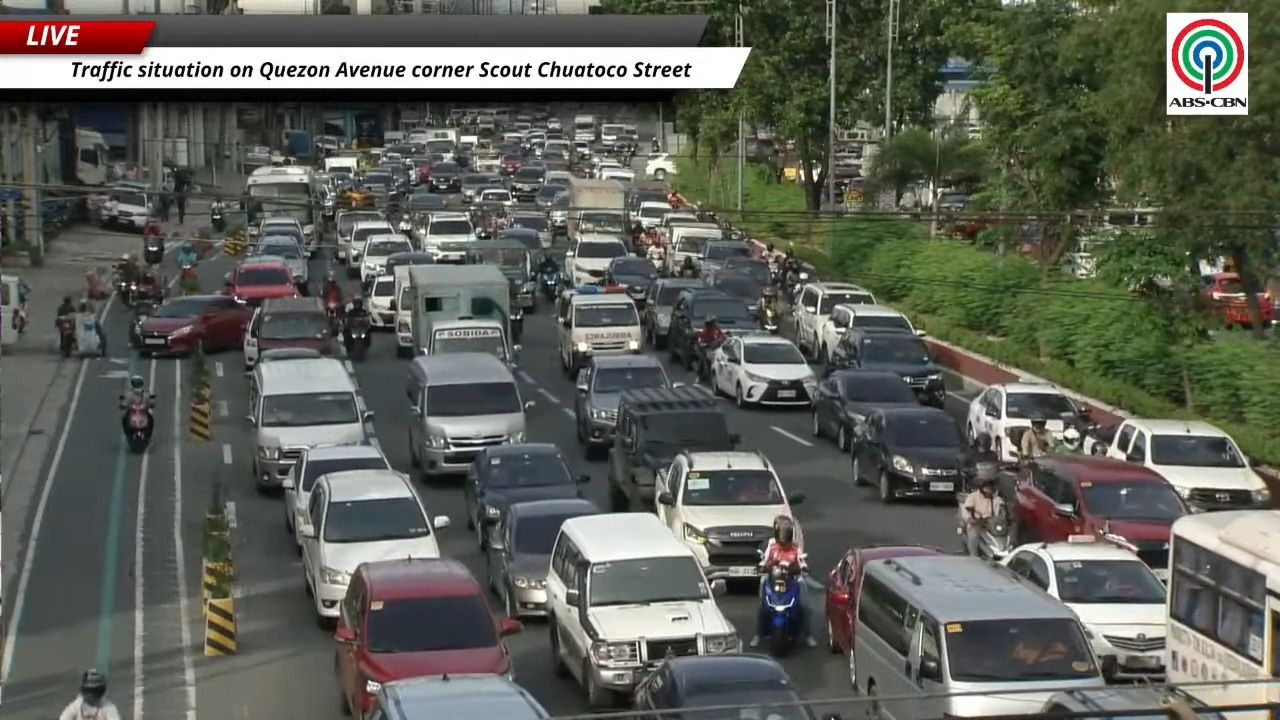bus: (1166, 510, 1279, 706), (246, 166, 316, 247)
car: (335, 556, 520, 716), (1002, 535, 1166, 680), (295, 470, 449, 624), (1012, 455, 1188, 579), (656, 450, 804, 578), (608, 386, 740, 511), (824, 545, 943, 682), (486, 498, 600, 618), (463, 443, 589, 549), (631, 654, 817, 719), (282, 443, 391, 548), (851, 406, 969, 502), (574, 354, 670, 459), (829, 327, 946, 407), (966, 382, 1081, 461), (812, 369, 917, 451), (363, 673, 550, 719), (667, 281, 759, 368), (710, 335, 816, 406), (241, 297, 343, 369), (132, 295, 249, 355), (816, 295, 913, 362), (793, 282, 875, 358), (1040, 686, 1228, 719), (641, 277, 701, 349), (224, 256, 298, 305), (254, 230, 308, 291), (565, 234, 628, 285), (347, 220, 398, 278), (1200, 272, 1252, 328), (704, 271, 767, 316), (360, 234, 413, 287), (604, 256, 657, 308), (419, 212, 474, 262), (335, 209, 385, 263), (251, 216, 314, 256), (848, 304, 926, 336), (703, 256, 771, 286), (698, 240, 752, 272), (366, 272, 395, 329), (507, 210, 551, 247), (460, 173, 501, 203), (383, 250, 434, 274), (495, 227, 545, 251), (510, 167, 545, 201), (634, 198, 670, 230), (405, 186, 446, 212), (257, 347, 323, 363), (429, 161, 462, 192), (534, 184, 567, 211), (645, 153, 676, 180), (475, 187, 515, 206), (500, 153, 523, 176)
motorcycle: (760, 563, 804, 656), (976, 506, 1012, 561), (120, 395, 154, 453), (689, 335, 723, 381), (343, 318, 371, 360), (129, 276, 164, 306), (113, 267, 137, 306), (57, 315, 75, 357), (325, 295, 343, 335), (539, 269, 559, 301), (143, 234, 163, 265), (179, 253, 196, 285), (760, 306, 779, 334), (510, 309, 523, 343), (210, 203, 225, 232)
truck: (1082, 418, 1271, 511), (404, 264, 515, 363), (567, 177, 629, 237), (282, 129, 313, 159), (572, 114, 599, 142)
